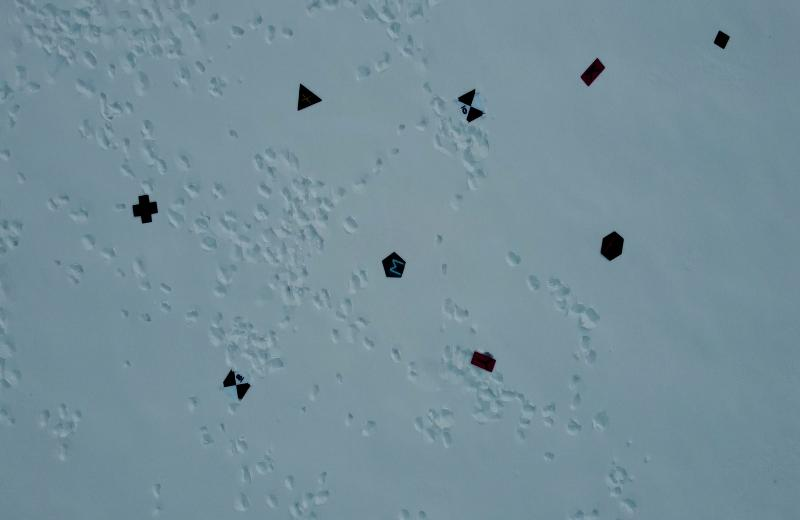Cross: (130, 192, 162, 226)
Hexagon: (595, 226, 625, 263)
Pentagon: (379, 247, 408, 282)
Rectangle: (576, 55, 608, 88), (466, 344, 499, 374)
Square: (711, 24, 732, 56)
Triangle: (292, 82, 325, 115)
